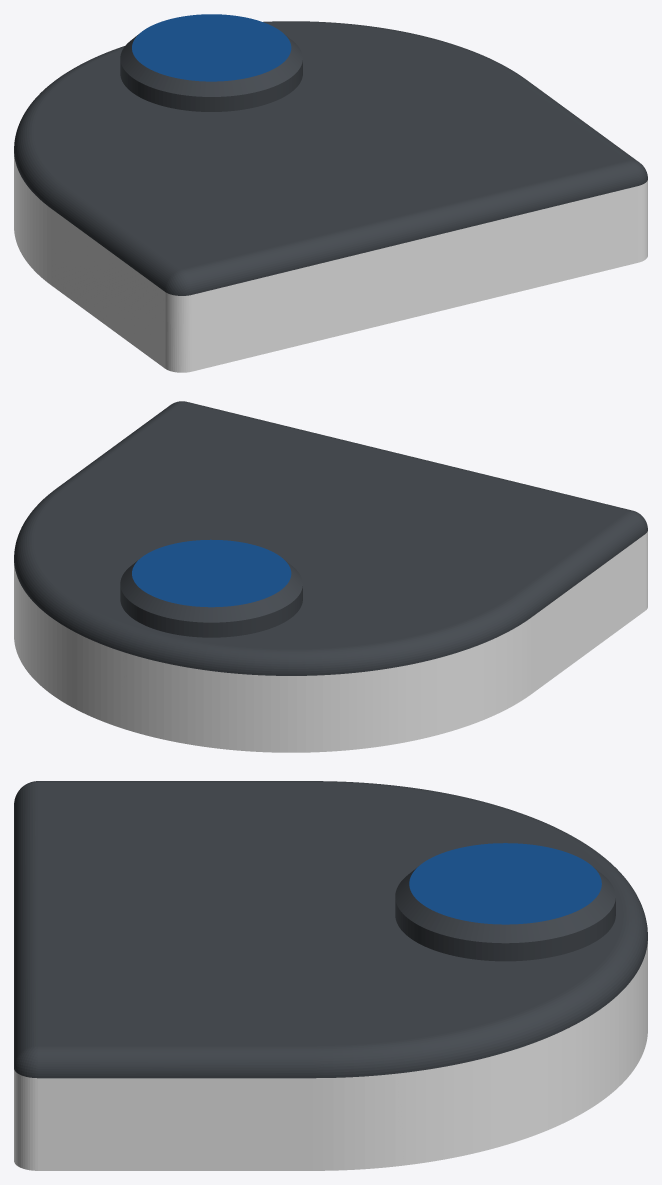
Rendered from NeatoDSeries.dae.
3 renders of one model, top to bottom at view 1: azimuth 30°, elevation 25°; view 2: azimuth 150°, elevation 25°; view 3: azimuth 270°, elevation 25°, orthographic. The views are drawn at different scales.
Parts seen in each view (by area): view 1: ID2; view 2: ID2; view 3: ID2.
Part boxes in pixels (left/top/right/bottom): ID2: left=14, top=14, right=647, bottom=372; ID2: left=14, top=401, right=647, bottom=752; ID2: left=14, top=781, right=647, bottom=1170.
Size of the model in its own units: 0.334 by 0.316 by 0.08.
